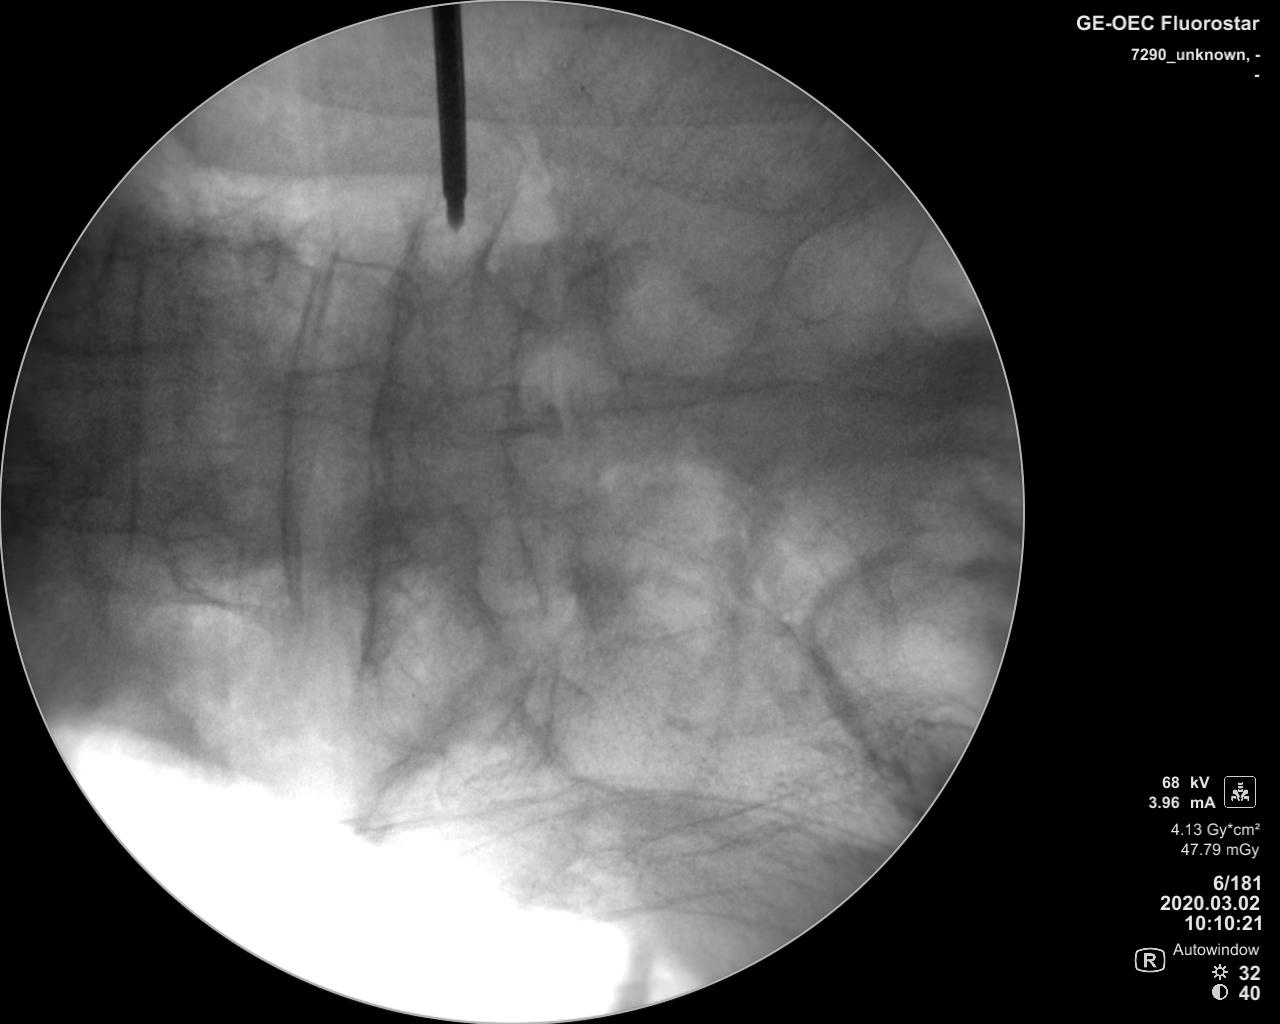eyes: (156, 501, 246, 594), (170, 235, 272, 298)
line: (354, 223, 423, 681), (276, 252, 316, 628), (514, 239, 551, 631), (116, 247, 149, 571)
nose: (269, 363, 410, 430), (428, 381, 557, 435)
